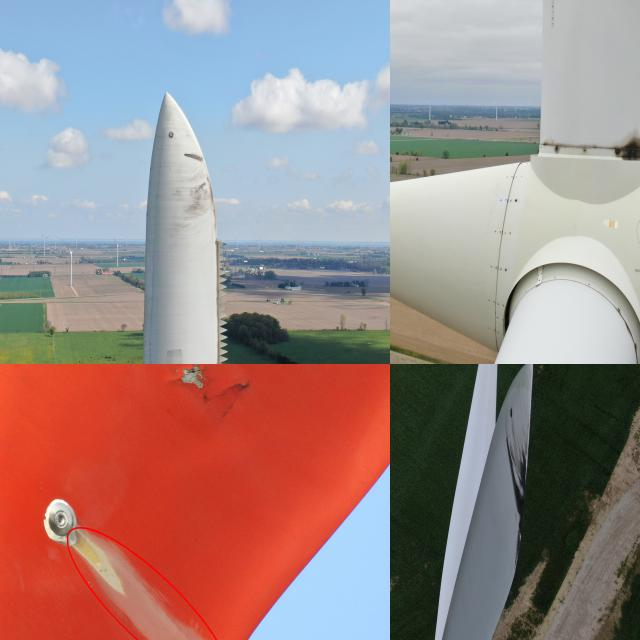damage: (175, 364, 256, 434), (67, 526, 135, 606), (498, 418, 536, 530), (610, 121, 639, 167), (182, 150, 205, 164)
